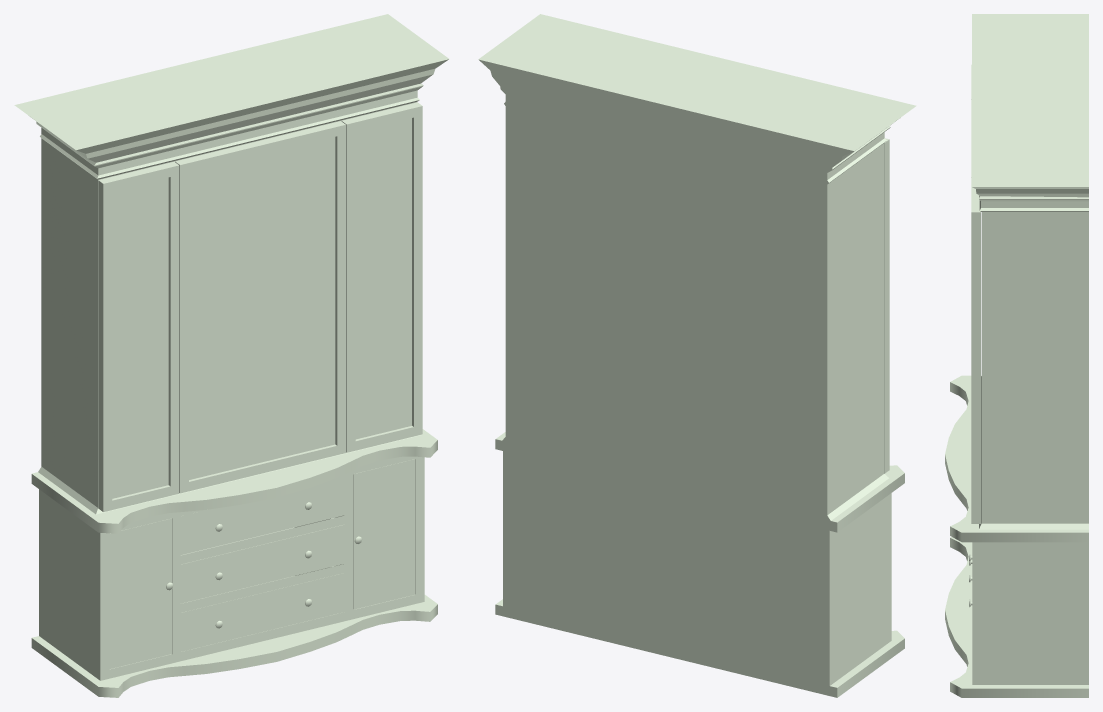
3 views of the same model, side by side, from view 1: azimuth 30°, elevation 25°; view 2: azimuth 150°, elevation 25°; view 3: azimuth 270°, elevation 25° (orthographic). The views are drawn at different scales.
Visible parts, largest first — view 1: Main Body - Low Poly, Glass Front - Low Poly.001, Glass Front - Low Poly, Right Cabinet - Low Poly, Left Cabinet - Low Poly, Middle Drawer - Low Poly, Bottom Drawer - Low Poly, Top Drawer - Low Poly; view 2: Main Body - Low Poly, Glass Front - Low Poly; view 3: Main Body - Low Poly, Glass Front - Low Poly.
Part boxes in pixels (box(x1,y1,x2,y2)): Main Body - Low Poly: box(14, 14, 449, 697); Glass Front - Low Poly.001: box(112, 118, 411, 498); Glass Front - Low Poly: box(98, 102, 422, 511); Right Cabinet - Low Poly: box(353, 459, 415, 609); Left Cabinet - Low Poly: box(109, 518, 173, 669); Middle Drawer - Low Poly: box(180, 517, 344, 603); Bottom Drawer - Low Poly: box(180, 566, 344, 651); Top Drawer - Low Poly: box(180, 476, 344, 554); Main Body - Low Poly: box(478, 14, 916, 697); Glass Front - Low Poly: box(884, 138, 889, 473); Main Body - Low Poly: box(945, 14, 1088, 697); Glass Front - Low Poly: box(971, 64, 980, 523).
Bounding box in the file's own units: 1.44 × 2.02 × 0.5072.
